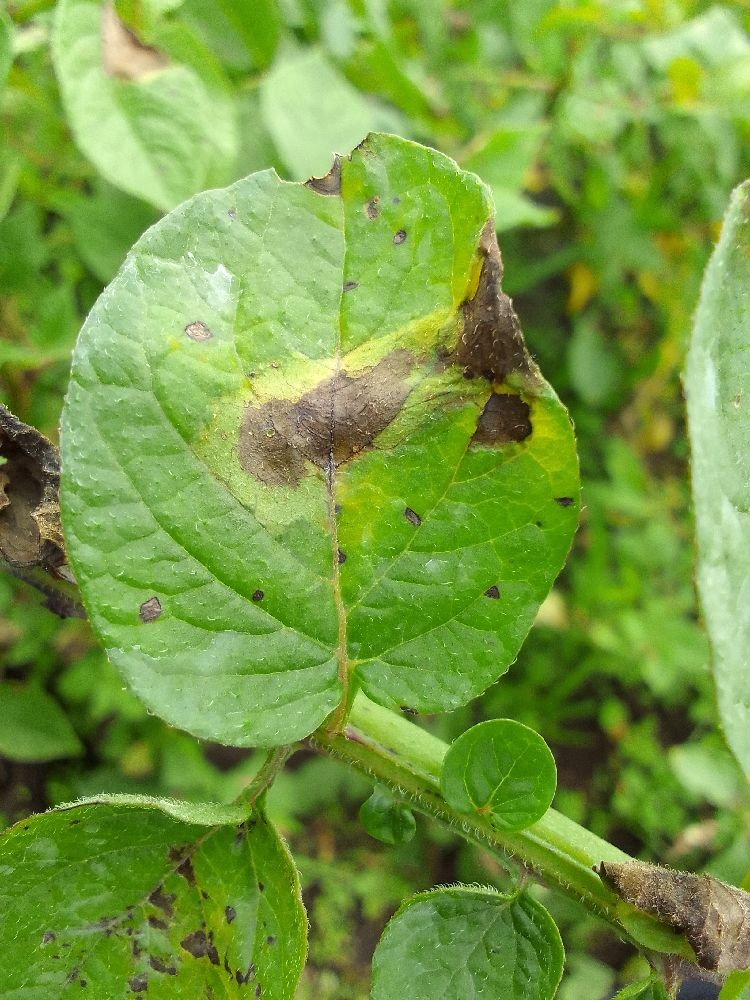late_blight: (219, 206, 558, 511), (483, 771, 750, 1000), (0, 329, 136, 703), (267, 767, 480, 911)
